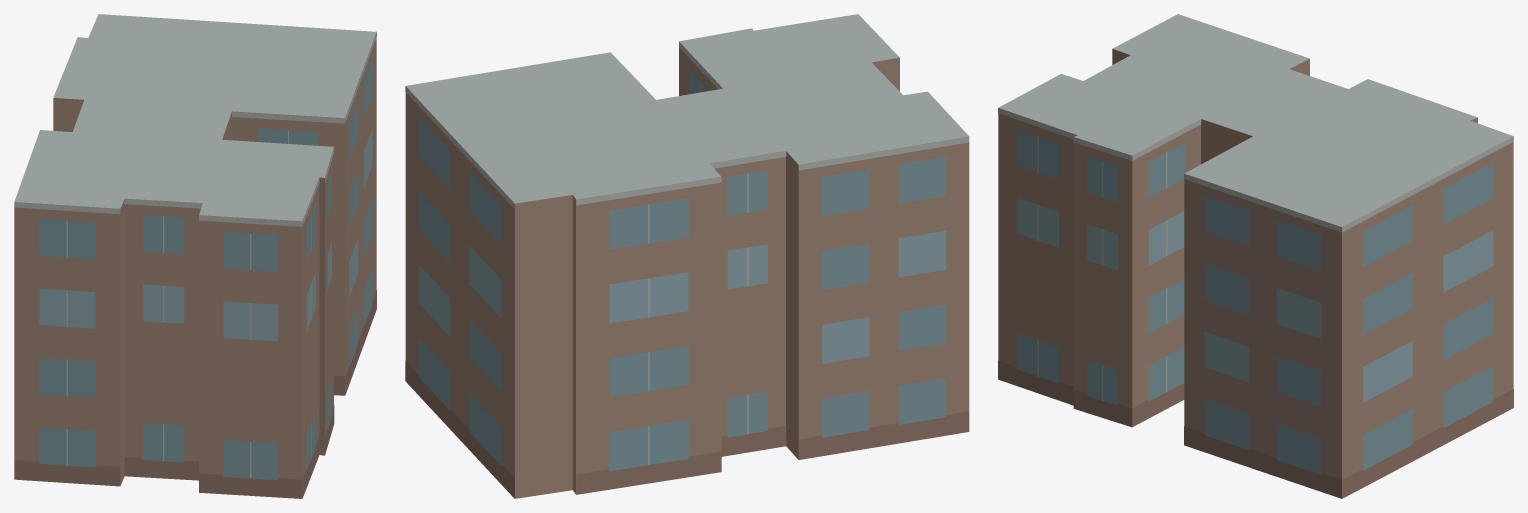
Rendered from survey-upis-32524910.glb.
3 views of the same model, side by side, from view 1: azimuth 30°, elevation 25°; view 2: azimuth 150°, elevation 25°; view 3: azimuth 270°, elevation 25° (orthographic). The views are drawn at different scales.
Parts seen in each view (by area): view 1: survey-upis-32524910.tmp; view 2: survey-upis-32524910.tmp; view 3: survey-upis-32524910.tmp.
Part boxes in pixels (box(x1,y1,x2,y2)): survey-upis-32524910.tmp: box(14, 14, 376, 498); survey-upis-32524910.tmp: box(405, 14, 969, 498); survey-upis-32524910.tmp: box(998, 14, 1513, 498).
Size of the model in its own units: 20.53 by 12.2 by 20.98.
